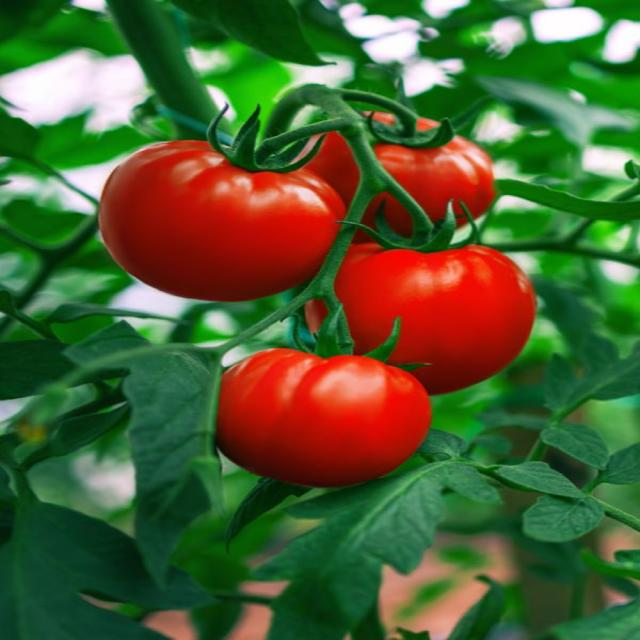level 6: (92, 136, 340, 300), (316, 238, 540, 389), (214, 348, 428, 487), (312, 110, 495, 247)
